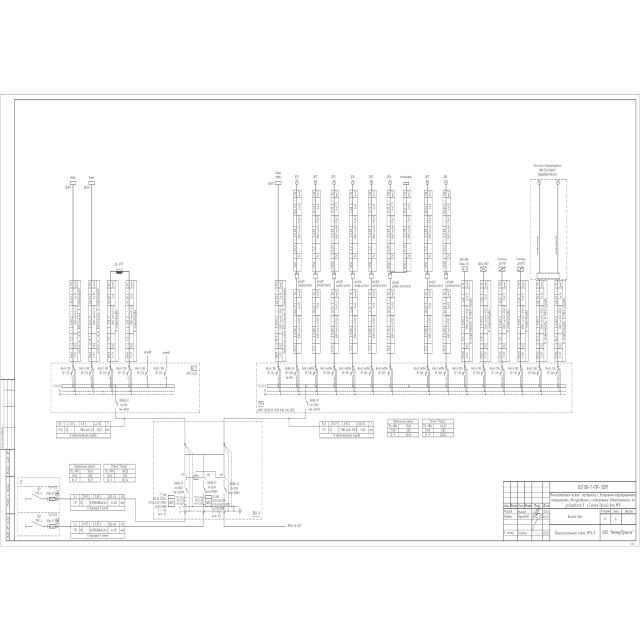-: (212, 494, 230, 518), (148, 492, 166, 516), (228, 482, 240, 496), (206, 481, 218, 494), (172, 481, 184, 494), (194, 498, 202, 506), (175, 499, 184, 506), (252, 510, 260, 515)
AVR: (180, 472, 228, 482)
QF: (184, 485, 188, 495), (223, 486, 227, 494), (202, 486, 206, 494)
TT: (202, 496, 204, 505), (184, 496, 186, 505)
WH: (168, 495, 175, 507), (205, 495, 212, 507)
